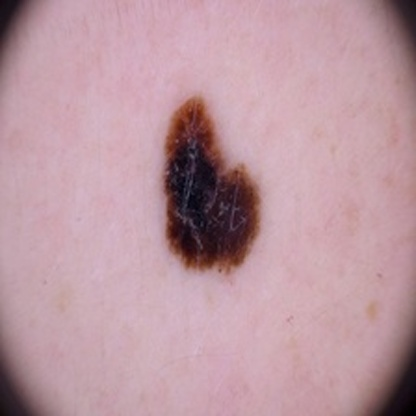malignant: (152, 96, 272, 265)
